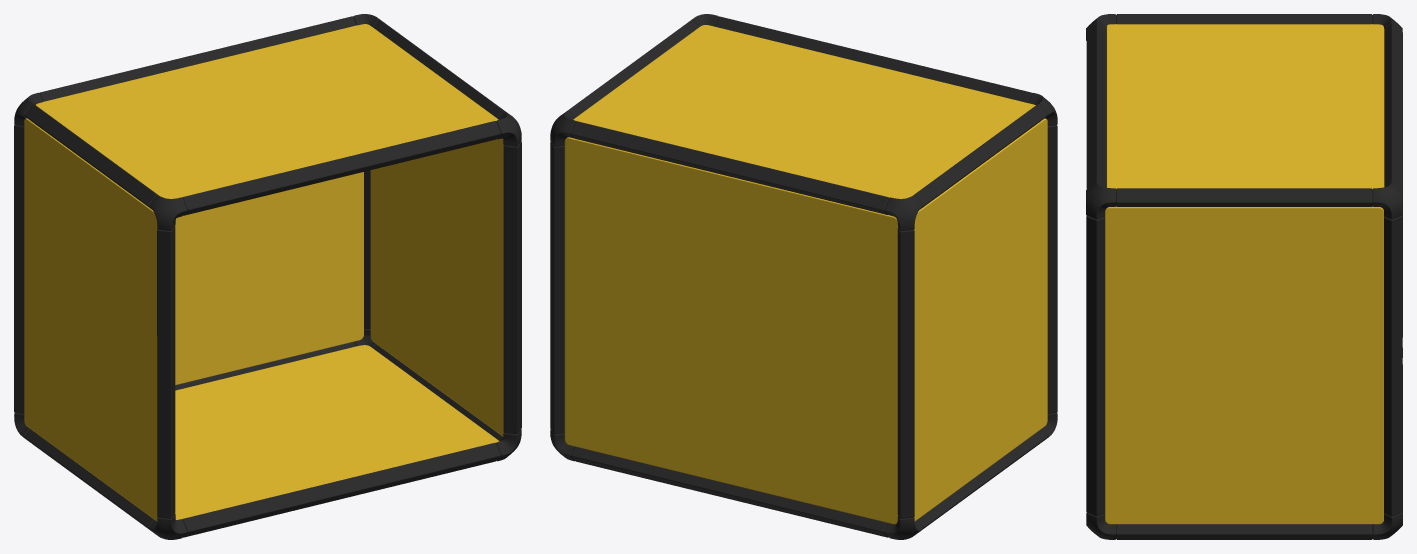
3 views of the same model, side by side, from view 1: azimuth 30°, elevation 25°; view 2: azimuth 150°, elevation 25°; view 3: azimuth 270°, elevation 25° (orthographic). The views are drawn at different scales.
Parts seen in each view (by area): view 1: 479x329x420; view 2: 479x329x420; view 3: 479x329x420.
Part boxes in pixels (x1=…): 479x329x420: x1=14, y1=14, x2=521, y2=539; 479x329x420: x1=550, y1=14, x2=1057, y2=539; 479x329x420: x1=1086, y1=14, x2=1402, y2=539.
Size of the model in its own units: 0.5567 by 0.4977 by 0.4063.
